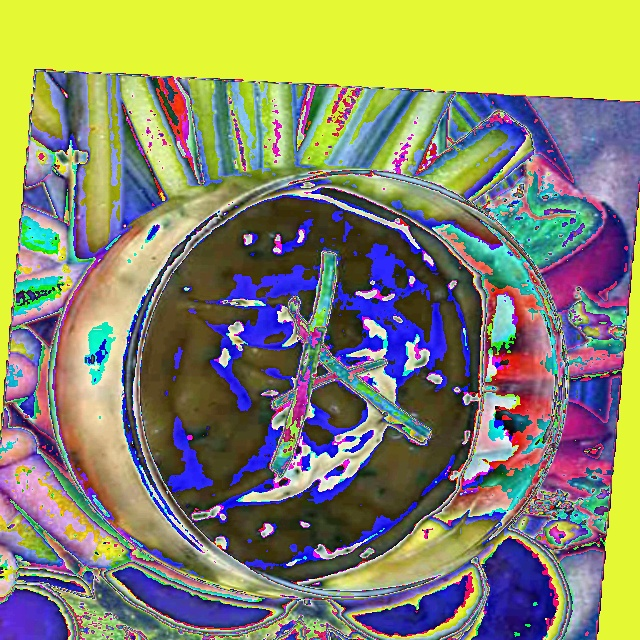background: (0, 70, 630, 639)
